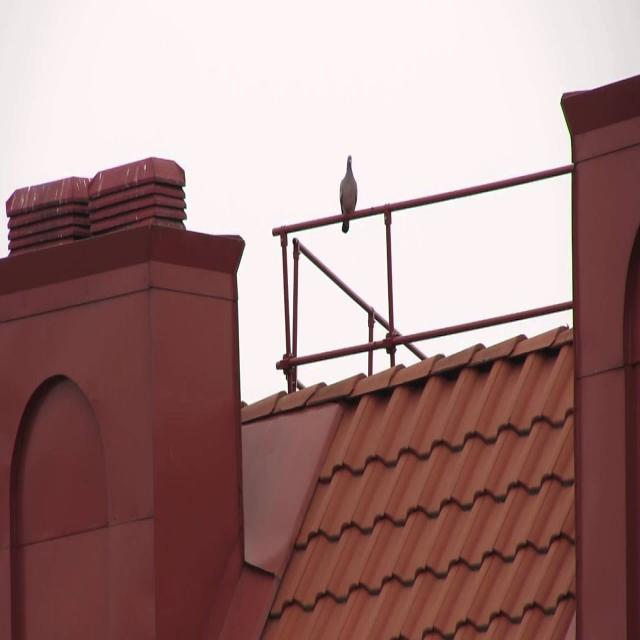bird: (338, 154, 359, 234)
